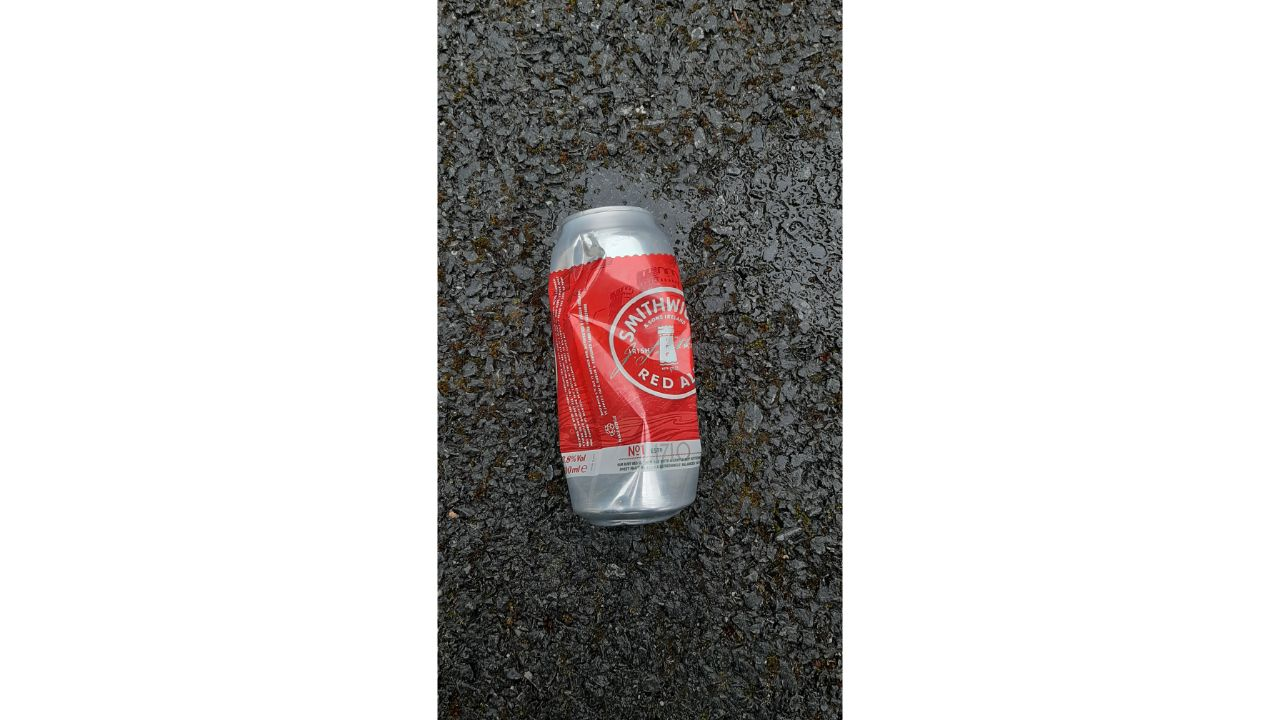Can: (544, 207, 705, 529)
